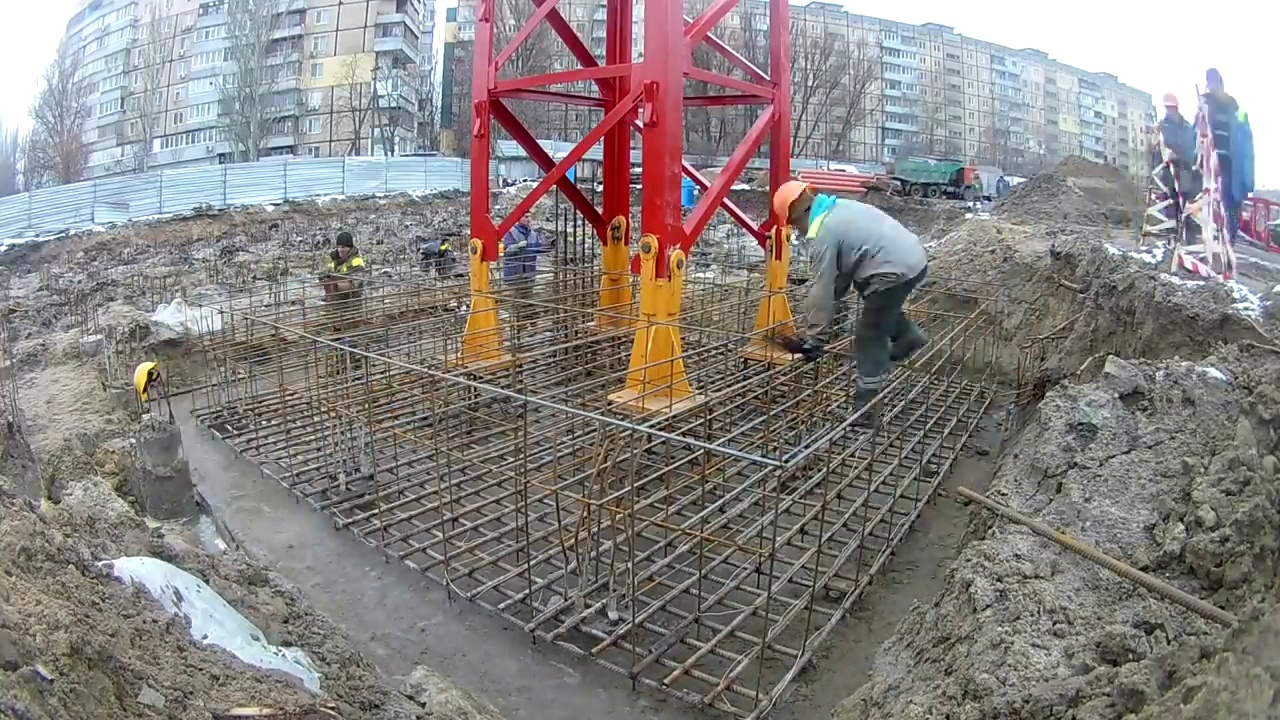helmet: (772, 179, 809, 226), (131, 360, 160, 402), (1162, 96, 1179, 108)
helmet-off: (335, 231, 355, 264), (515, 204, 532, 231)
helmet-on: (772, 175, 818, 235), (1162, 93, 1182, 120)
person: (769, 178, 928, 429), (1200, 67, 1258, 249), (1149, 93, 1205, 233), (501, 205, 545, 305), (318, 232, 365, 316)
